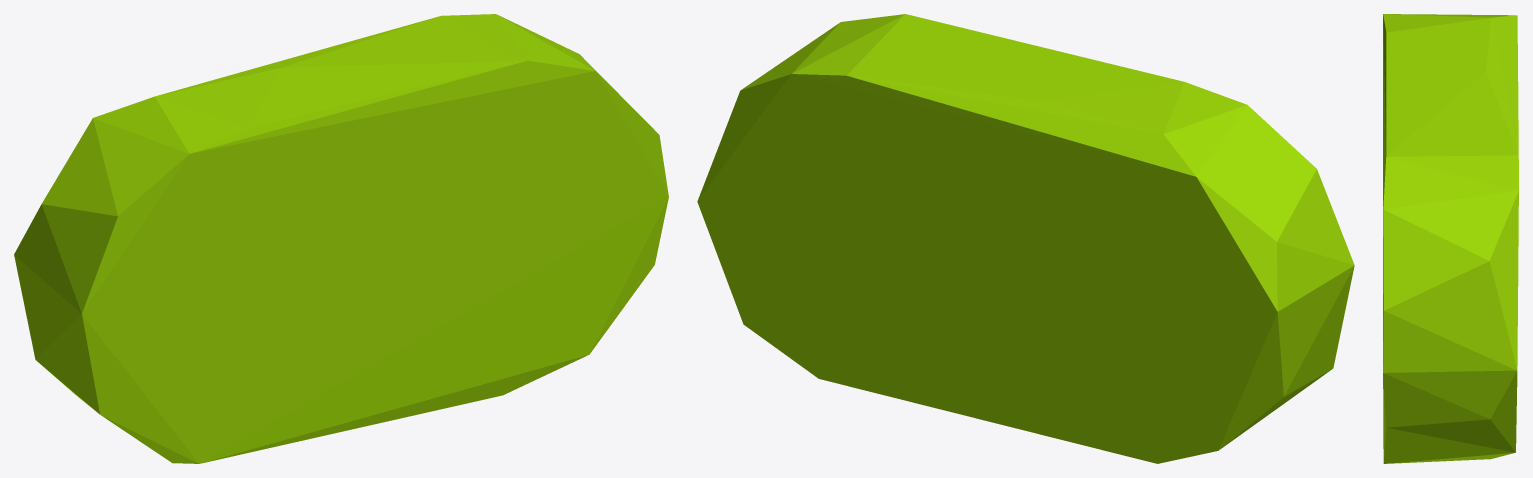
File: hip-pitch_convex_piece_001.obj
3 renders of one model, left to right at view 1: azimuth 30°, elevation 25°; view 2: azimuth 150°, elevation 25°; view 3: azimuth 270°, elevation 25°, orthographic. The views are drawn at different scales.
Bounding box in the file's own units: 0.2545 × 0.1366 × 0.0561.
